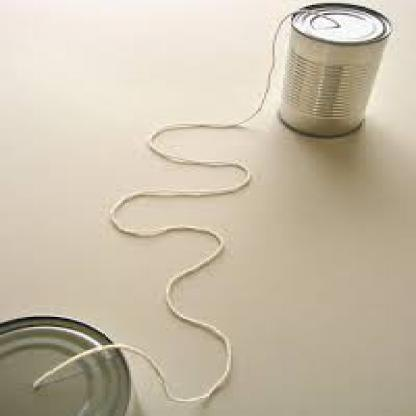METAL: (275, 2, 389, 137), (0, 313, 140, 415)
